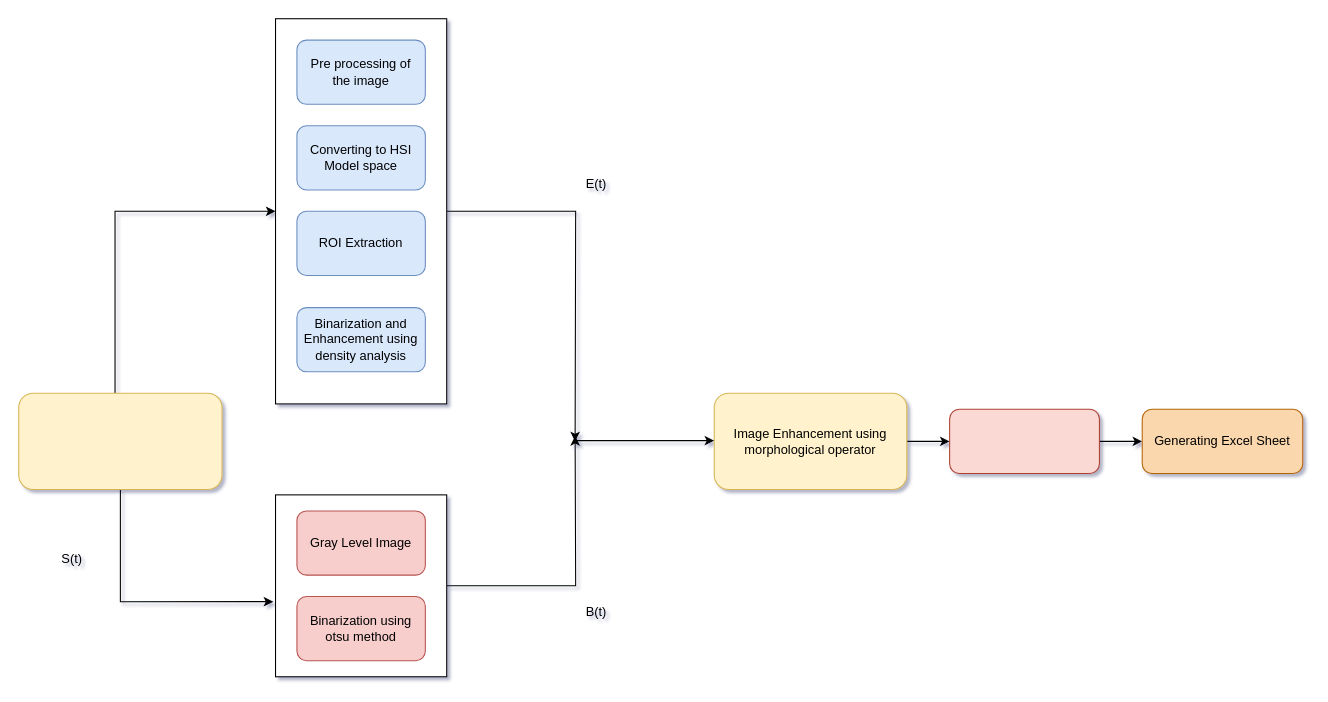
Image size: 1328x702. Some labels were removed from this diagram. Here are the shapes that lost their labels. From the top down, the centre of each, then its label:
the point at 120,441: Soft Copy of the image
the point at 1024,440: OCR Engine
